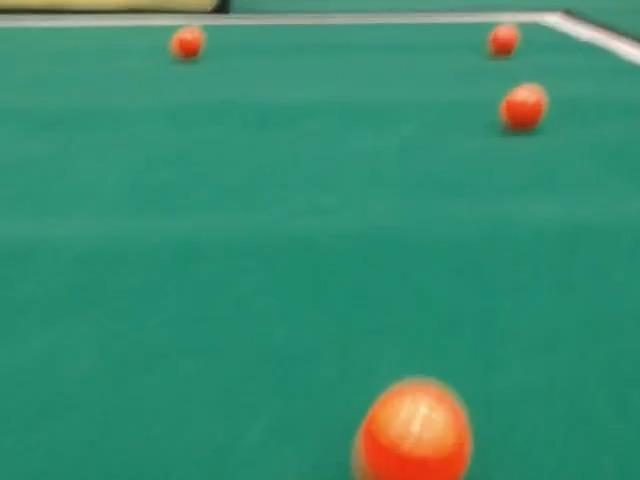Ball: (352, 378, 472, 479), (499, 83, 547, 131), (170, 26, 204, 59), (487, 24, 519, 57)
